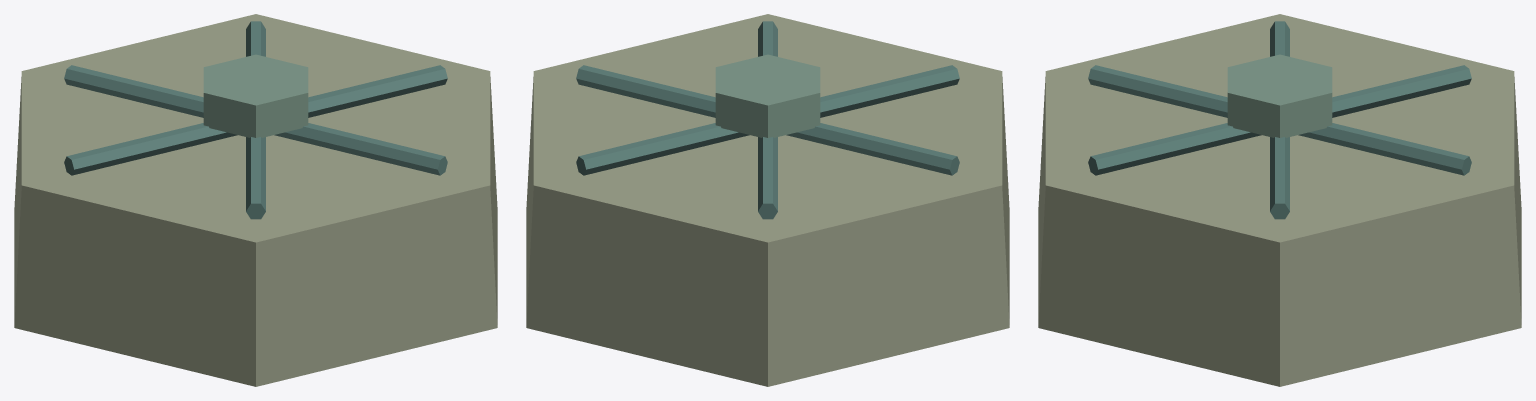
File: map-exclusive-v3__ruins_03.glb
3 renders of one model, left to right at view 1: azimuth 30°, elevation 25°; view 2: azimuth 150°, elevation 25°; view 3: azimuth 270°, elevation 25°, orthographic.
Visible parts, largest first — view 1: ruins_03; view 2: ruins_03; view 3: ruins_03.
Boxes of the visible parts, x1,y1,x2,y2 form: ruins_03: [14, 14, 497, 386]; ruins_03: [526, 14, 1009, 386]; ruins_03: [1038, 14, 1521, 386].
Size of the model in its own units: 1.94 by 0.7251 by 1.68.
